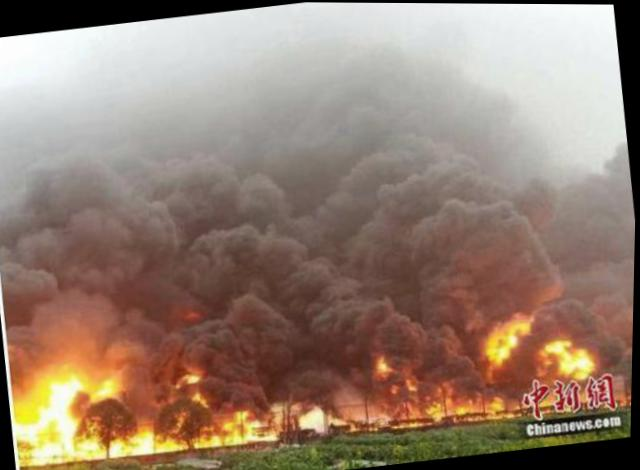fire: (7, 363, 98, 466), (422, 386, 510, 425), (156, 420, 253, 454), (538, 331, 596, 378), (480, 313, 529, 363), (97, 427, 156, 457), (84, 366, 119, 402), (371, 351, 394, 373)
